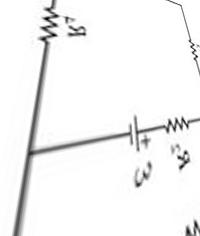resistor: (33, 5, 63, 45), (162, 112, 194, 133), (181, 37, 199, 69)
